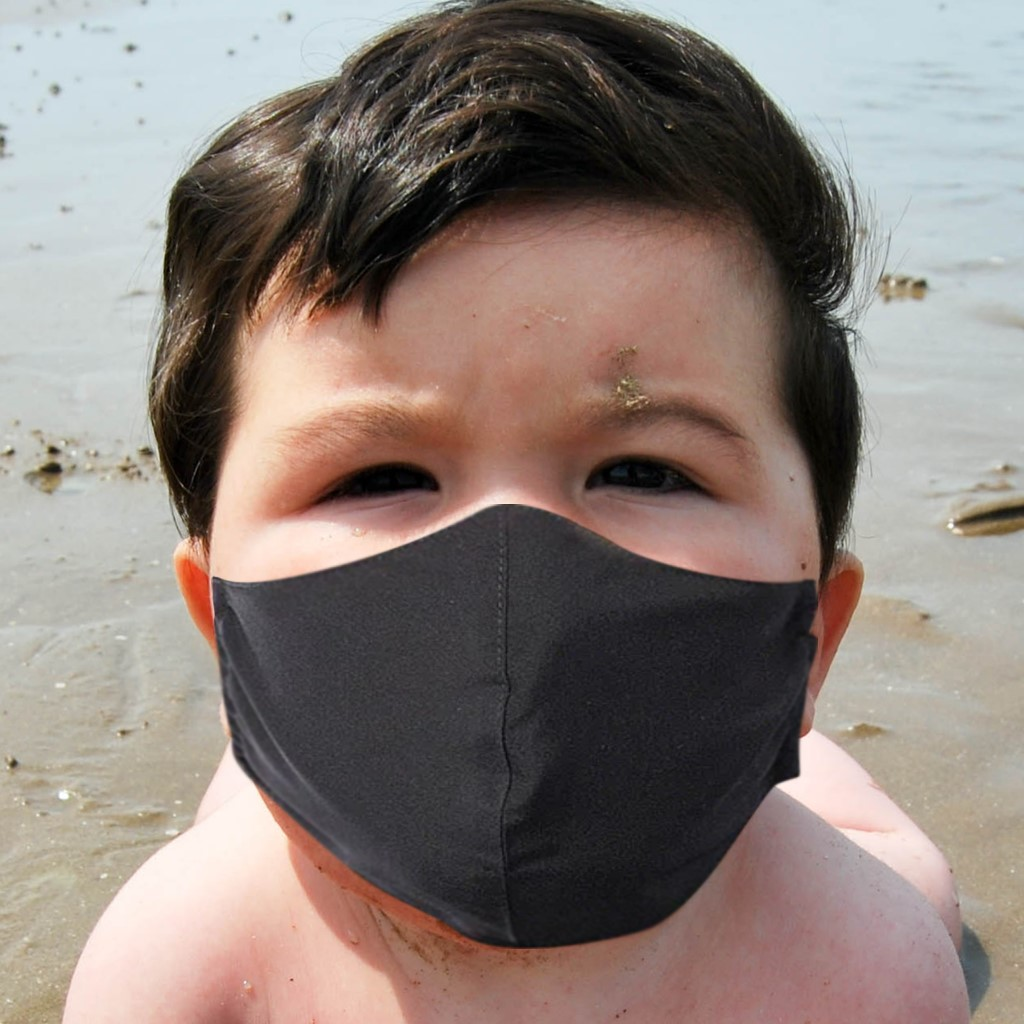con_mascara: (187, 136, 822, 918)
